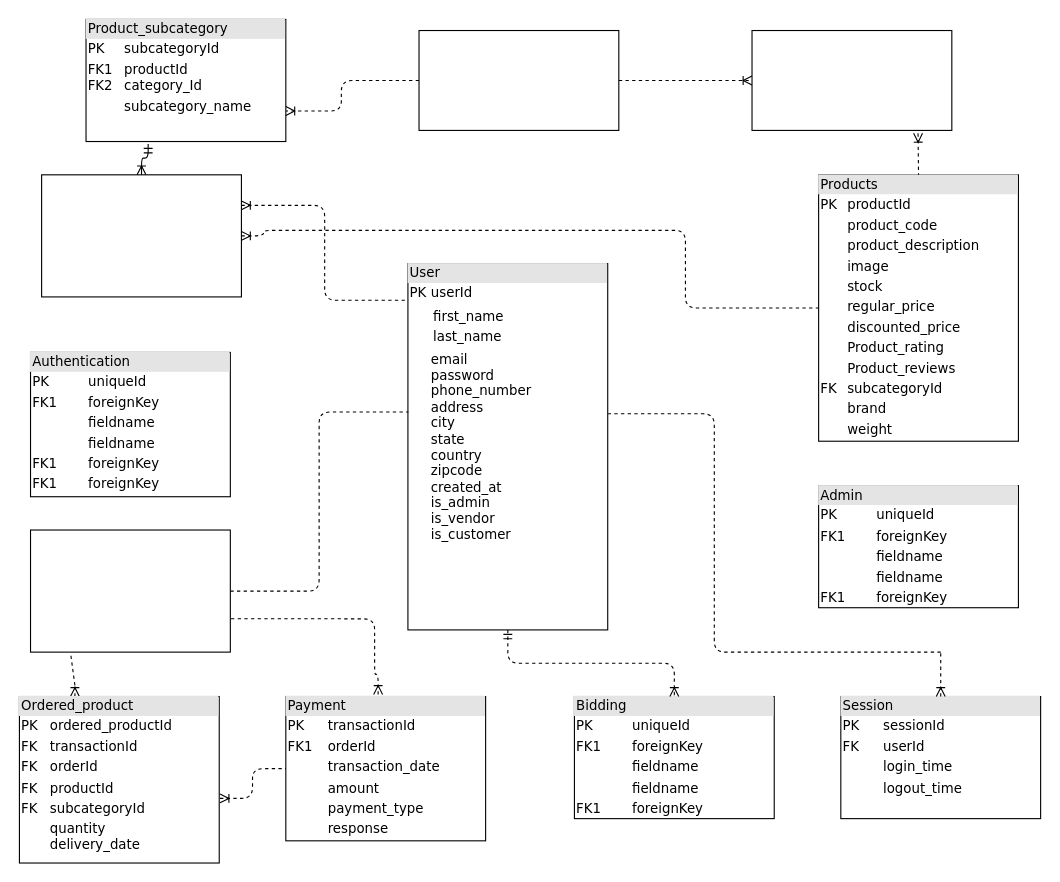
The diagram is 1060 pixels wide and 882 high, and some of its shapes have lost their labels. Here are the shapes that lost their labels. From the top down, the centre of each, then its label:
the point at 518,79: Category PK categoryId date_posted Category_type fieldname
the point at 851,79: Product_Category PK,FK categoryId PK,FK productId Product_type
the point at 141,235: Cart PK,FK userId PK2,FK2 productId qauntity FK3 subcategoryId
the point at 129,590: Orders PK orderId FK1 userId order_date total_price
